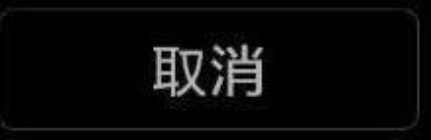Button: (1, 1, 430, 139)
